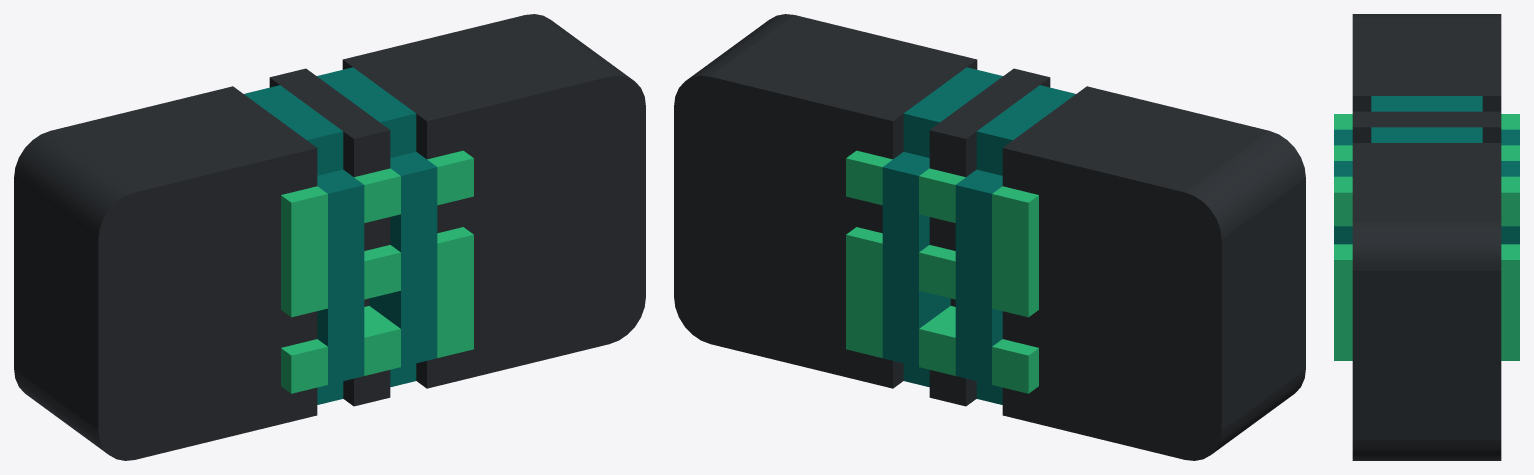
Rendered from cashbox.glb.
The picture shows the model from 3 angles, left to right: view 1: azimuth 30°, elevation 25°; view 2: azimuth 150°, elevation 25°; view 3: azimuth 270°, elevation 25°; orthographic projection. The views are drawn at different scales.
Visible parts, largest first — view 1: shape0 (×98), shape2 (×4); view 2: shape0 (×98), shape2 (×4); view 3: shape0 (×27), shape2 (×3).
Boxes of the visible parts, left/top/right/bottom form: shape0 (×98): left=14, top=15, right=645, bottom=459; shape2 (×4): left=14, top=14, right=645, bottom=460; shape0 (×98): left=674, top=15, right=1305, bottom=459; shape2 (×4): left=674, top=14, right=1305, bottom=460; shape0 (×27): left=1334, top=17, right=1519, bottom=439; shape2 (×3): left=1352, top=14, right=1501, bottom=460.
Size of the model in its own units: 15 by 7 by 5.
105 materials, 105 textured.
